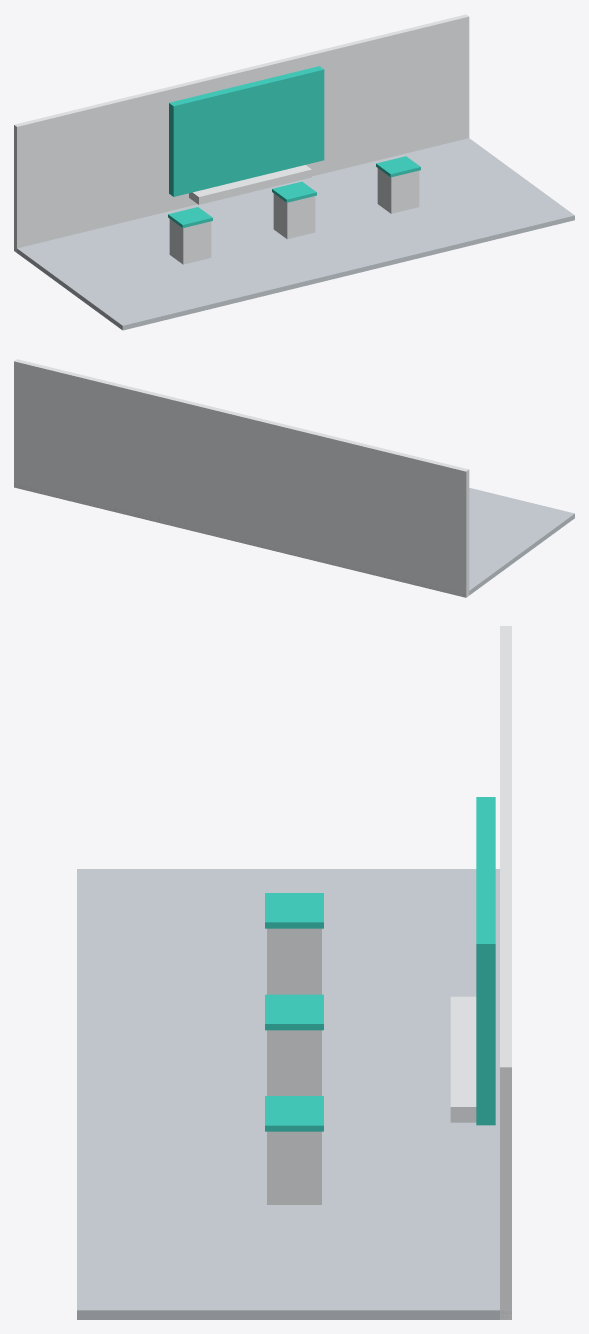
The picture shows the model from 3 angles, top to bottom: view 1: azimuth 30°, elevation 25°; view 2: azimuth 150°, elevation 25°; view 3: azimuth 270°, elevation 25°; orthographic projection. The views are drawn at different scales.
Visible parts, largest first — view 1: Exhibition Booth Concept; view 2: Exhibition Booth Concept; view 3: Exhibition Booth Concept.
Part boxes in pixels (bbox=[...]): Exhibition Booth Concept: bbox=[14, 14, 574, 330]; Exhibition Booth Concept: bbox=[14, 359, 574, 597]; Exhibition Booth Concept: bbox=[77, 626, 511, 1319].
Size of the model in its own units: 12 by 3.2 by 5.
